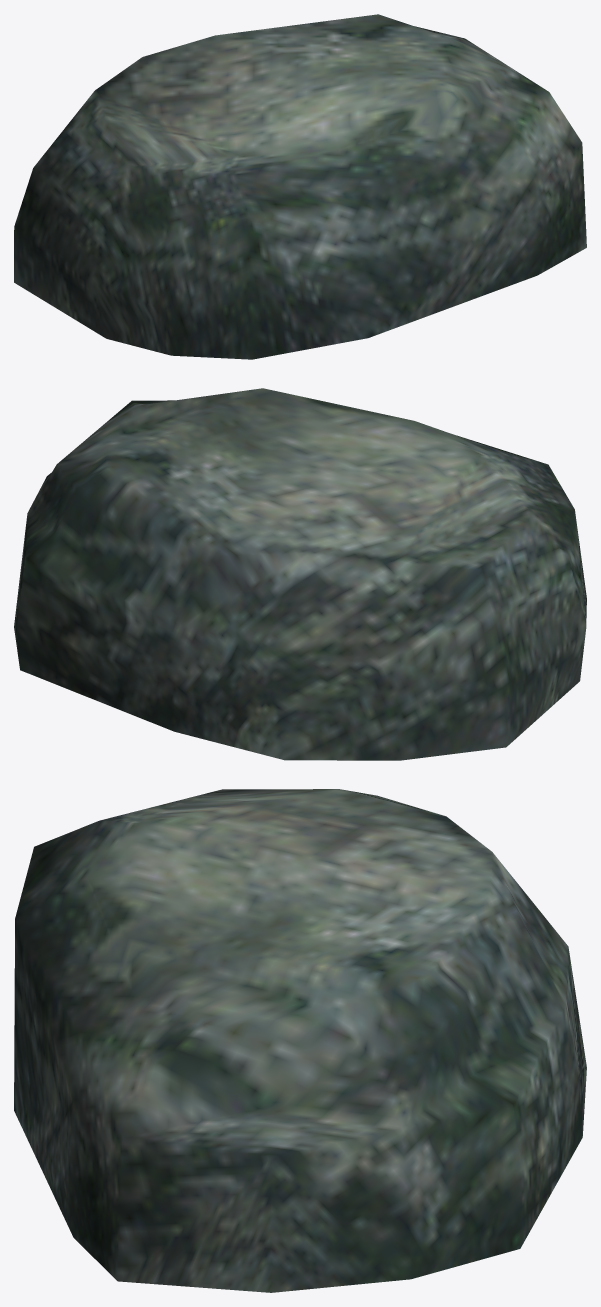
The model's file is lianqizong_shitou03_st.FBX.
The picture shows the model from 3 angles, top to bottom: view 1: azimuth 30°, elevation 25°; view 2: azimuth 150°, elevation 25°; view 3: azimuth 270°, elevation 25°; orthographic projection. The views are drawn at different scales.
Parts seen in each view (by area): view 1: lianqizong_shitou03_st_A; view 2: lianqizong_shitou03_st_A; view 3: lianqizong_shitou03_st_A.
Boxes of the visible parts, x1=… form: lianqizong_shitou03_st_A: x1=14, y1=14, x2=586, y2=359; lianqizong_shitou03_st_A: x1=14, y1=388, x2=586, y2=760; lianqizong_shitou03_st_A: x1=14, y1=789, x2=586, y2=1292.
Bounding box in the file's own units: 118 × 42.5 × 89.18.
